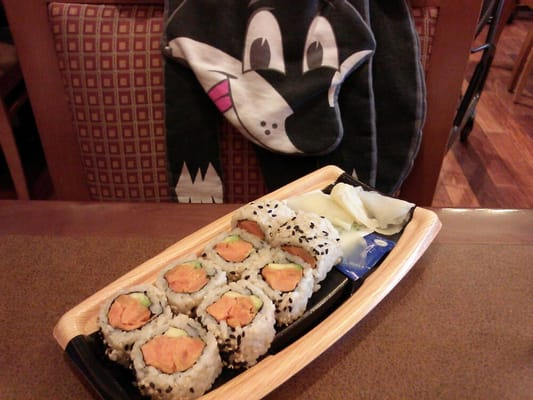curry: (1, 170, 504, 400)
pasta: (396, 1, 518, 207)
